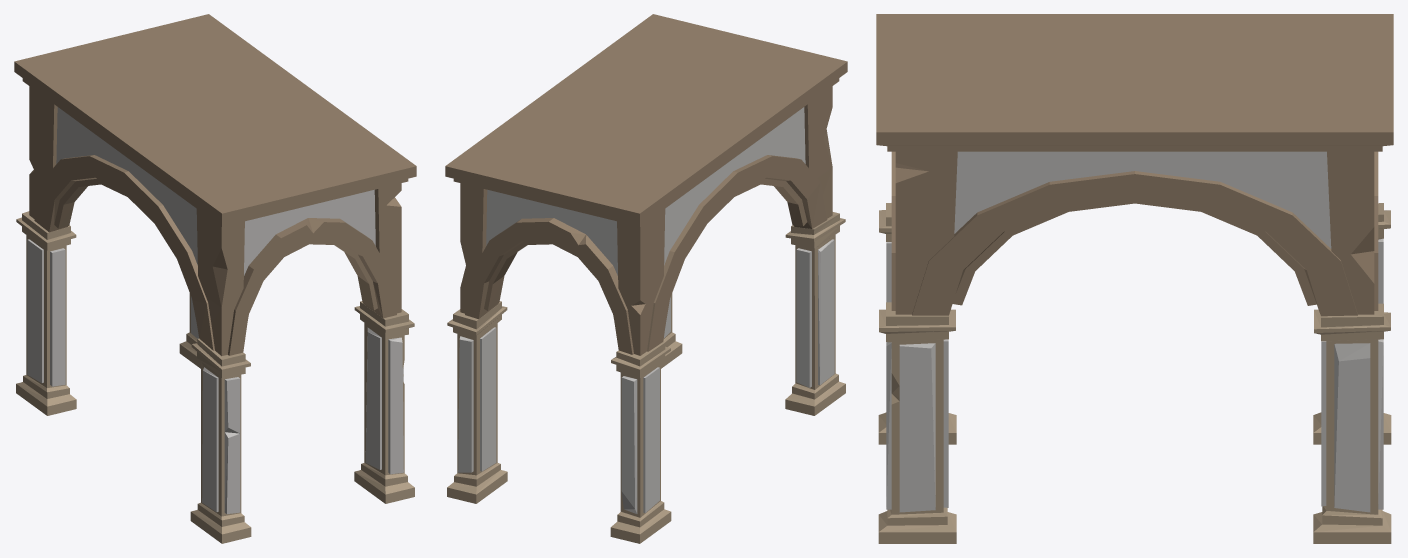
Rendered from SM_Bld_Cuba_Arch_02.glb.
3 views of the same model, side by side, from view 1: azimuth 30°, elevation 25°; view 2: azimuth 150°, elevation 25°; view 3: azimuth 270°, elevation 25° (orthographic). The views are drawn at different scales.
Visible parts, largest first — view 1: SM_Bld_Cuba_Arch_02_part00; view 2: SM_Bld_Cuba_Arch_02_part00; view 3: SM_Bld_Cuba_Arch_02_part00.
Boxes of the visible parts, x1,y1,x2,y2 form: SM_Bld_Cuba_Arch_02_part00: [14, 14, 416, 543]; SM_Bld_Cuba_Arch_02_part00: [445, 14, 847, 543]; SM_Bld_Cuba_Arch_02_part00: [876, 14, 1393, 543].
Bounding box in the file's own units: 2.05 × 3.33 × 3.79.
Materials: 1 (1 with a texture image).
